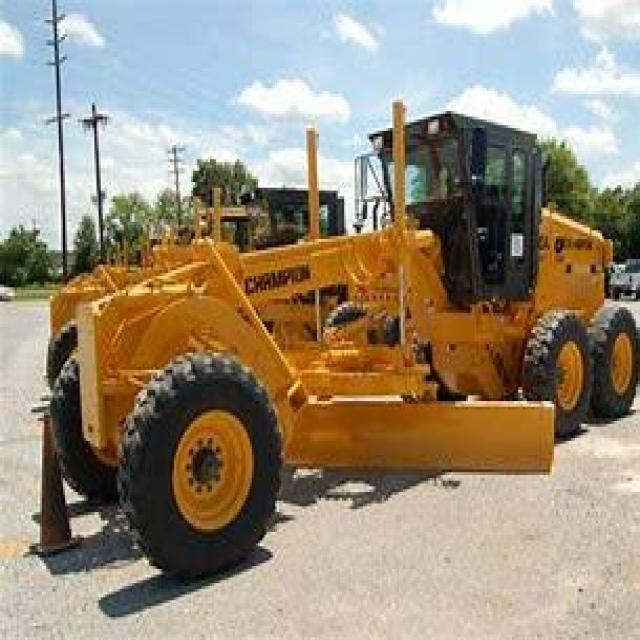Grader: (23, 88, 638, 575)
